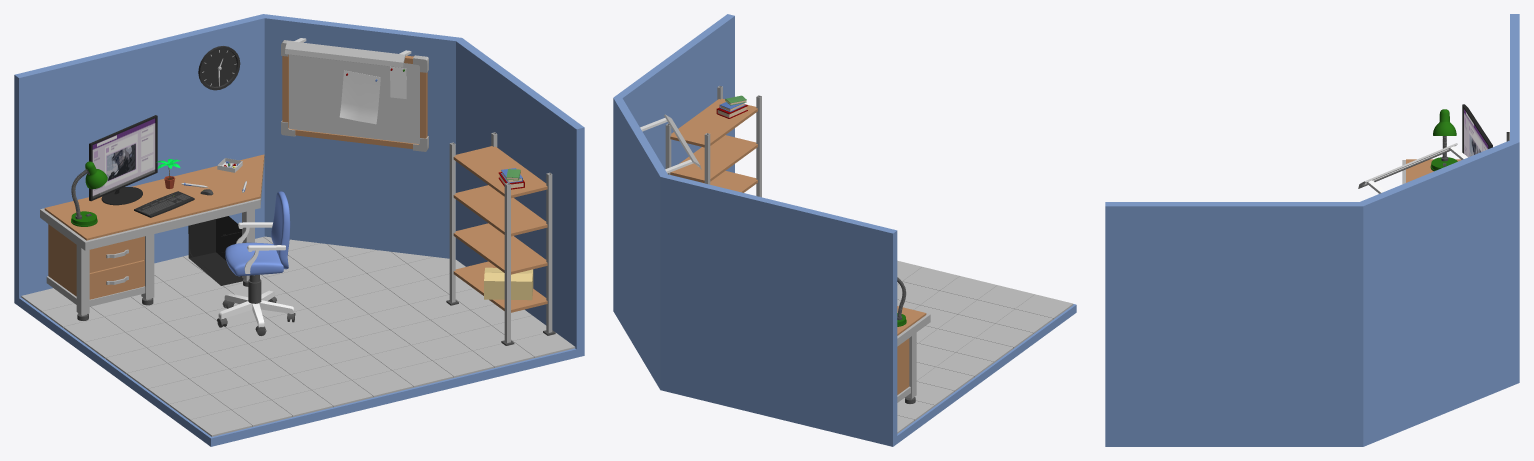
Rendered from FindPassword_main_L1_v5.gltf.
3 views of the same model, side by side, from view 1: azimuth 30°, elevation 25°; view 2: azimuth 150°, elevation 25°; view 3: azimuth 270°, elevation 25° (orthographic). The views are drawn at different scales.
Parts seen in each view (by area): view 1: Level_Main; view 2: Level_Main; view 3: Level_Main.
Boxes of the visible parts, bbox=[...] form: Level_Main: bbox=[14, 14, 584, 446]; Level_Main: bbox=[613, 14, 1076, 446]; Level_Main: bbox=[1105, 14, 1519, 446].
Size of the model in its own units: 4.92 by 2.87 by 4.48.
Materials: 37 (1 with a texture image).
